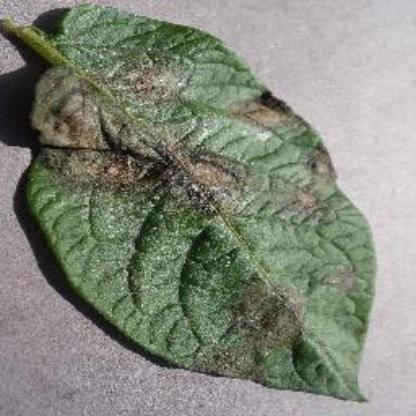Late-Blight: (7, 0, 387, 408)
